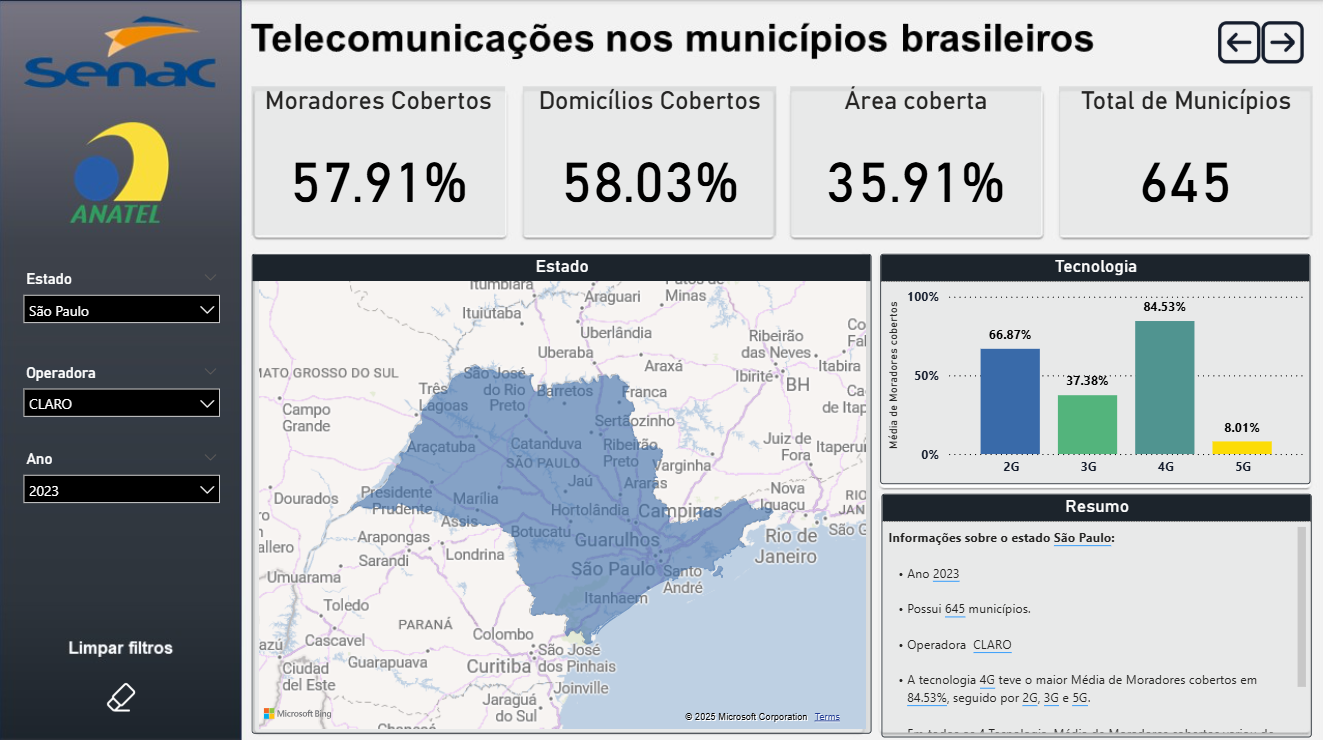

What the dashboard file says about the page in this screenshot:
{"tool":"powerbi","page":{"name":"Estado","canvas":[1280,720],"ordinal":1},"visuals":[{"type":"slicer","fields":{"Values":["Estado.Estado"]},"box":[13.8,256.2,210,90],"z":0},{"type":"slicer","fields":{"Values":["Operadora.Operadora"]},"box":[13.3,346.7,210,91.7],"z":1000},{"type":"card","title":"Moradores Cobertos","fields":{"Values":["Avg(Fato.% Moradores cobertos)"]},"box":[243.8,83.8,245,143.8],"z":2000},{"type":"filledMap","fields":{"Category":["Estado.Estado"]},"box":[243.3,245,598.3,463.3],"z":3000},{"type":"clusteredColumnChart","title":"Tecnologia","fields":{"Category":["Tecnologia.Tecnologia"],"Y":["Avg(Fato.Moradores cobertos)"]},"box":[850,245,415,222.5],"z":4000},{"type":"slicer","fields":{"Values":["Calendario.Date.Variation.Hierarquia de datas.Ano"]},"box":[13.8,430,210,92.5],"z":5000},{"type":"card","title":"Domicílios Cobertos","fields":{"Values":["Avg(Fato.Domicílios cobertos)"]},"box":[505,83.8,245,143.8],"z":6000},{"type":"image","box":[12.7,653.2,208.2,41.3],"z":7000},{"type":"image","box":[1211.1,15.9,55.6,50.9],"z":8000},{"type":"image","box":[1168.2,15.9,58.8,50.9],"z":9000},{"type":"card","title":"Área coberta","fields":{"Values":["Avg(Fato.% Área coberta)"]},"box":[763.8,83.8,242.5,143.8],"z":10000},{"type":"textbox","title":"Resumo","box":[851.7,476.7,415,235],"z":11000},{"type":"card","title":"Total de Municípios ","fields":{"Values":["Median(Fato.TotalMunicípiosEstado)"]},"box":[1022.5,83.8,245,143.8],"z":12000}]}

Visuals, with their boxes in screenshot pixels (x1, y1, x2, y2), scaled from the page's 1280x720 canvas onto the 1323x740 screenshot:
slicer - Estado.Estado: pyautogui.locateOnScreen(14, 263, 231, 356)
slicer - Operadora.Operadora: pyautogui.locateOnScreen(14, 356, 231, 451)
"Moradores Cobertos" card: pyautogui.locateOnScreen(252, 86, 505, 234)
filledMap - Estado.Estado: pyautogui.locateOnScreen(251, 252, 870, 728)
"Tecnologia" clusteredColumnChart: pyautogui.locateOnScreen(879, 252, 1307, 480)
slicer - Calendario.Date.Variation.Hierarquia de datas.Ano: pyautogui.locateOnScreen(14, 442, 231, 537)
"Domicílios Cobertos" card: pyautogui.locateOnScreen(522, 86, 775, 234)
image: pyautogui.locateOnScreen(13, 671, 228, 714)
image: pyautogui.locateOnScreen(1252, 16, 1309, 69)
image: pyautogui.locateOnScreen(1207, 16, 1268, 69)
"Área coberta" card: pyautogui.locateOnScreen(789, 86, 1040, 234)
"Resumo" textbox: pyautogui.locateOnScreen(880, 490, 1309, 731)
"Total de Municípios " card: pyautogui.locateOnScreen(1057, 86, 1310, 234)
